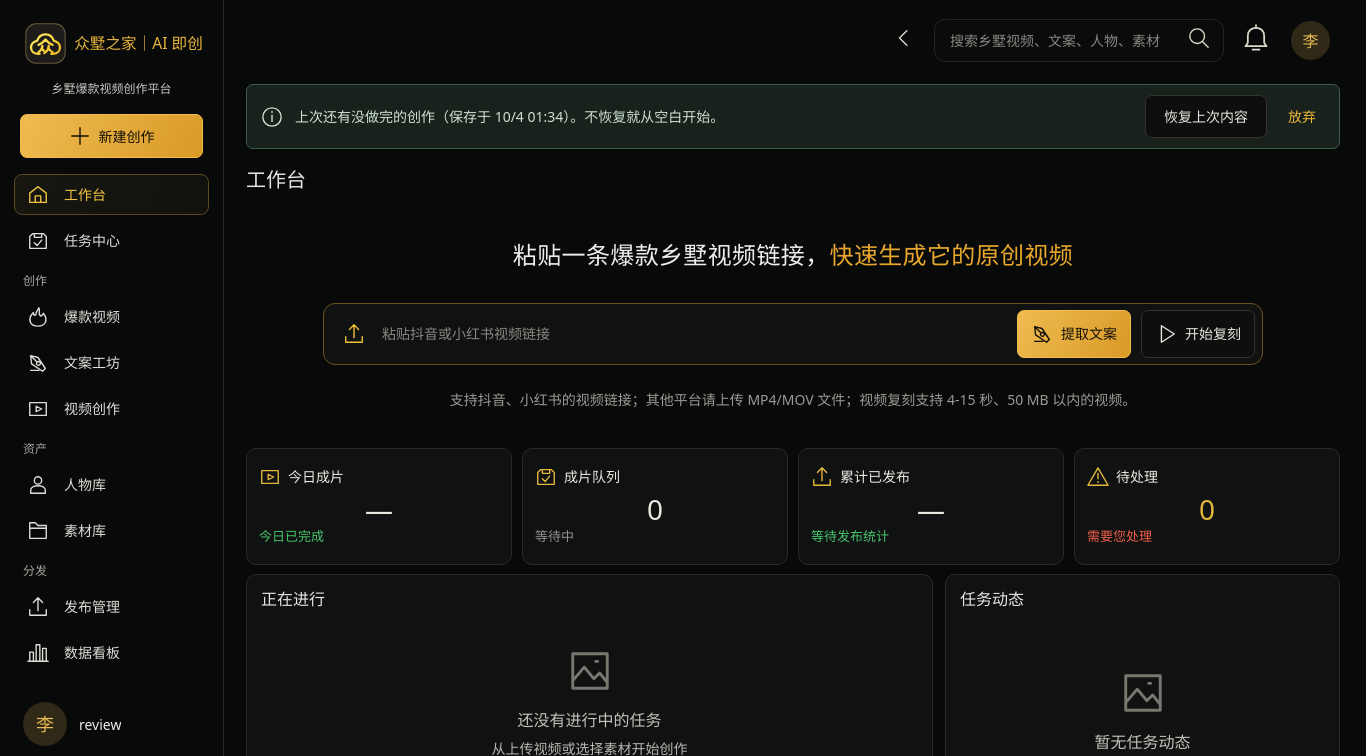
Test case: V1.4 workspace integration › C7 云端草稿 › 点「恢复上次内容」后才回填云端草稿，我的文案列表照常加载
Click the button "恢复上次内容": click(1206, 116) [1145,95,1267,138]
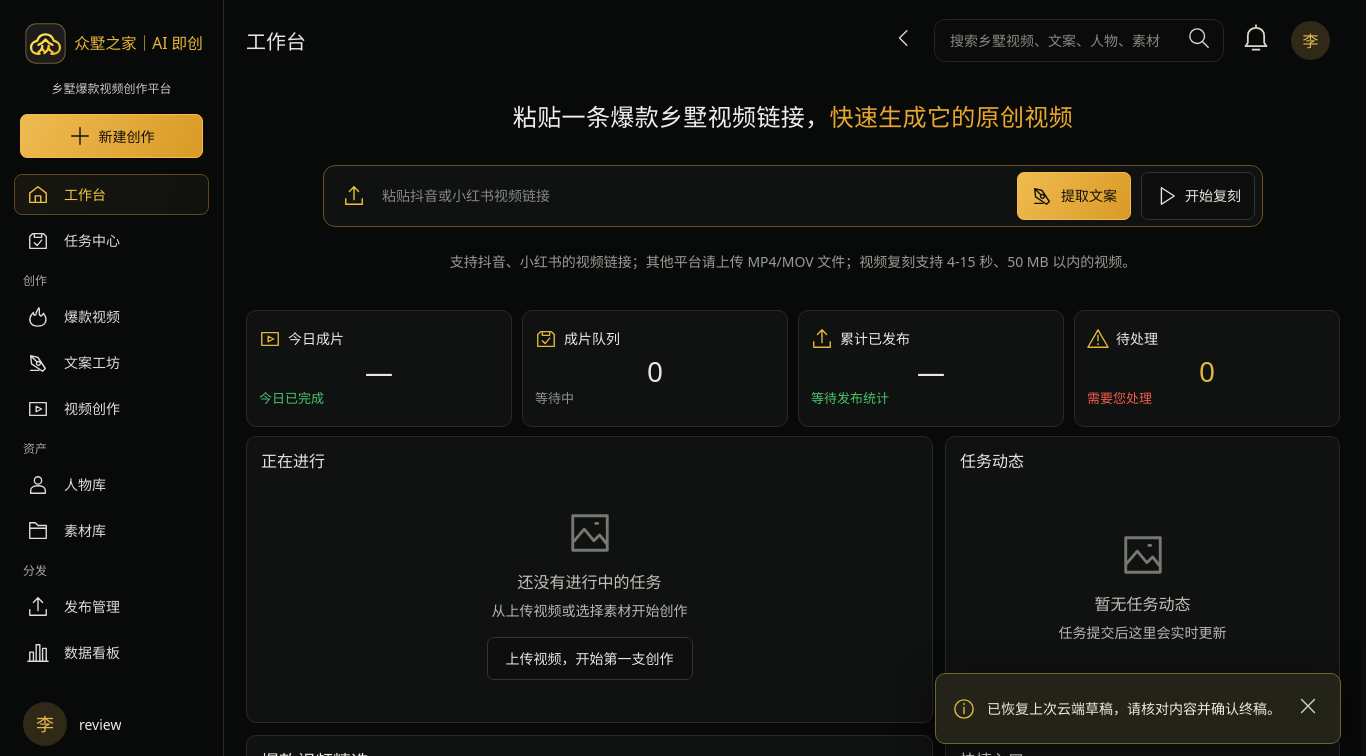
Click the button "文案工坊": click(112, 363) [14,342,209,383]
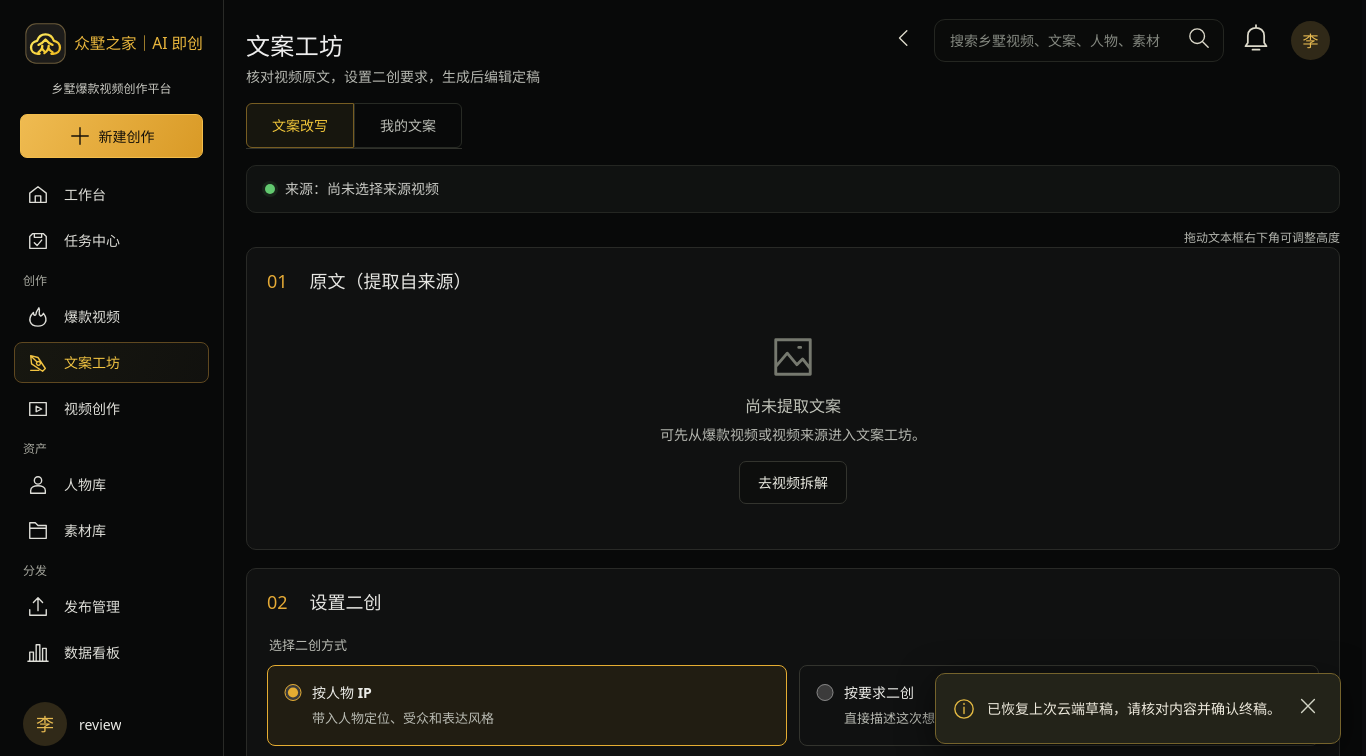
Click the tab "我的文案": click(408, 125) [354,103,462,148]
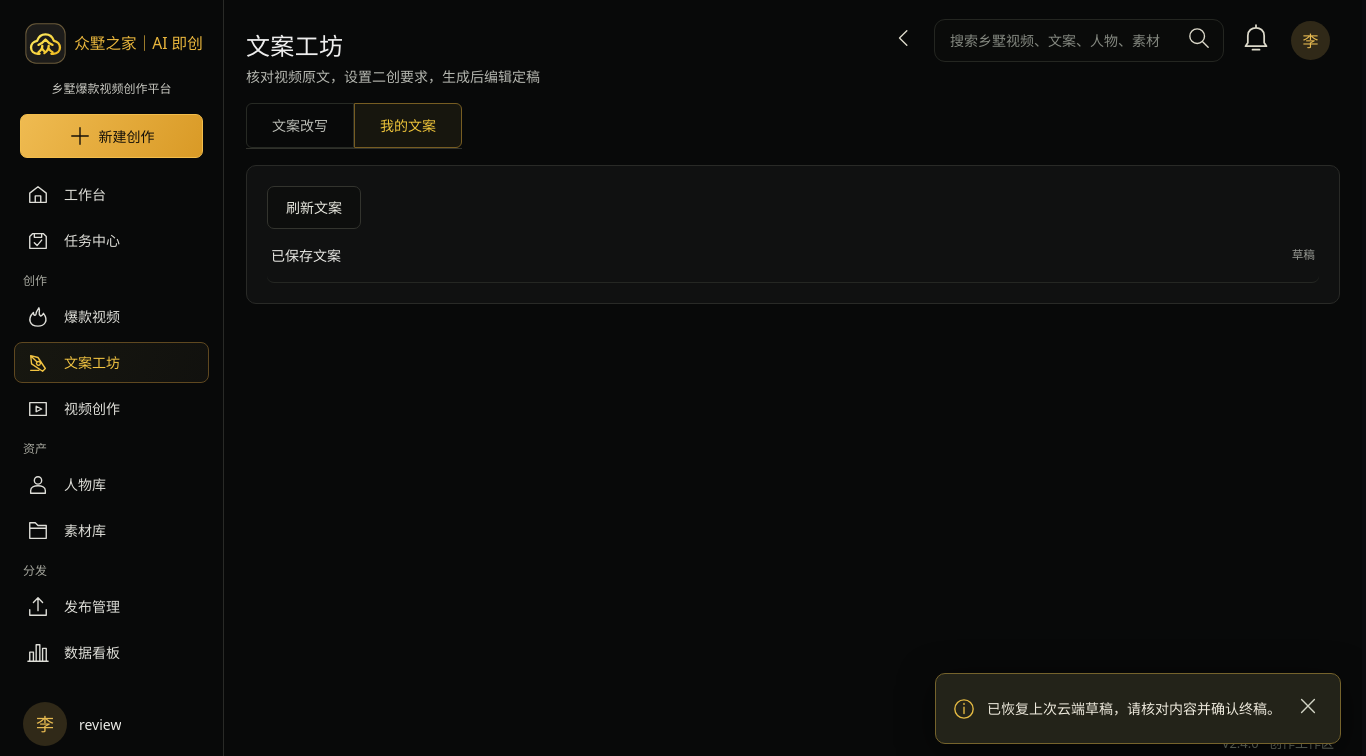
Expected: the button "恢复上次内容" is not shown
Now the text "已保存文案" is shown, box [271,245,341,266]
